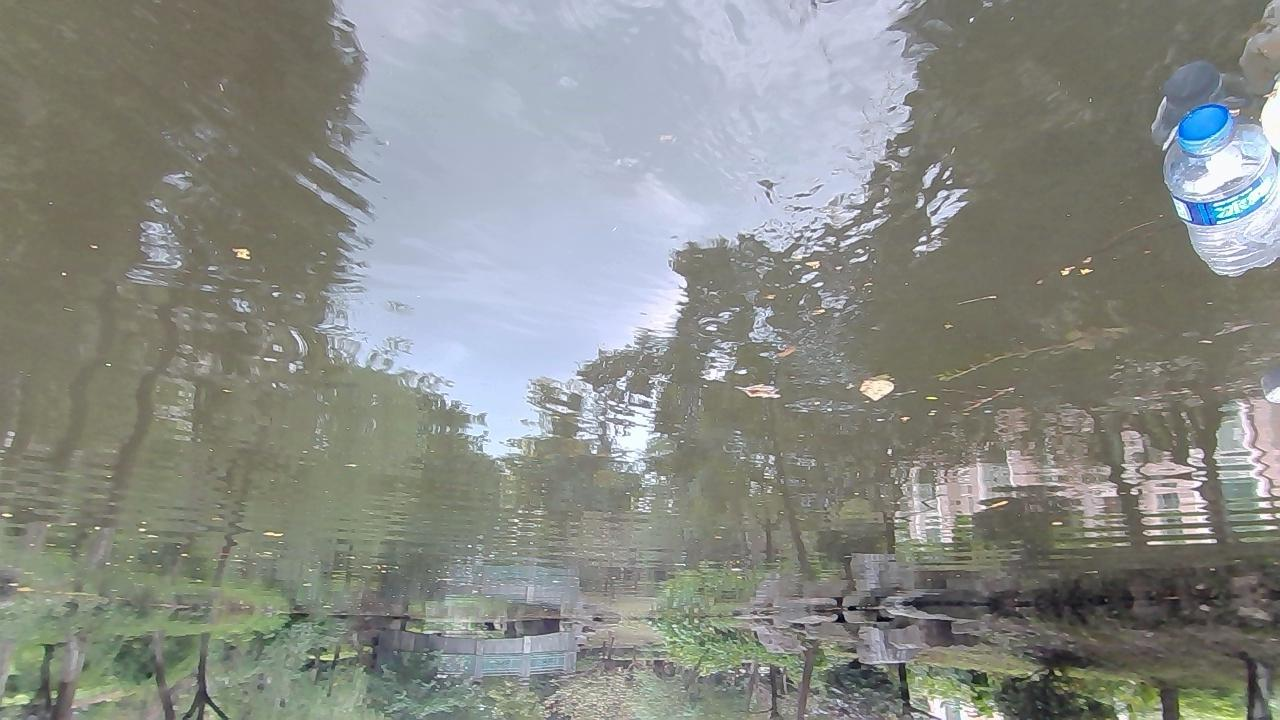Plastic: (1159, 102, 1280, 280), (857, 377, 897, 403)
